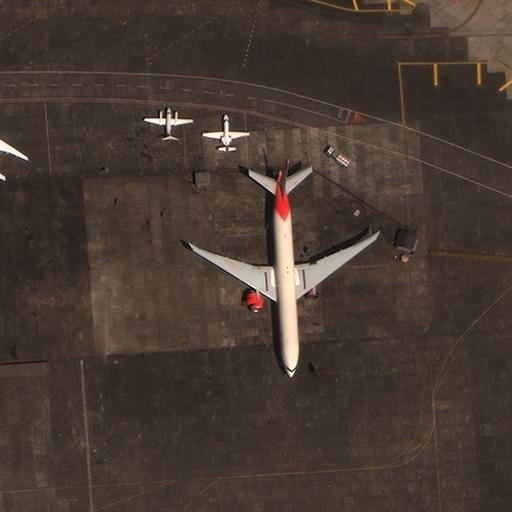Large Civil Transport: (192, 157, 377, 377)
Medium Civil Transport: (202, 114, 249, 151), (144, 108, 191, 139)
